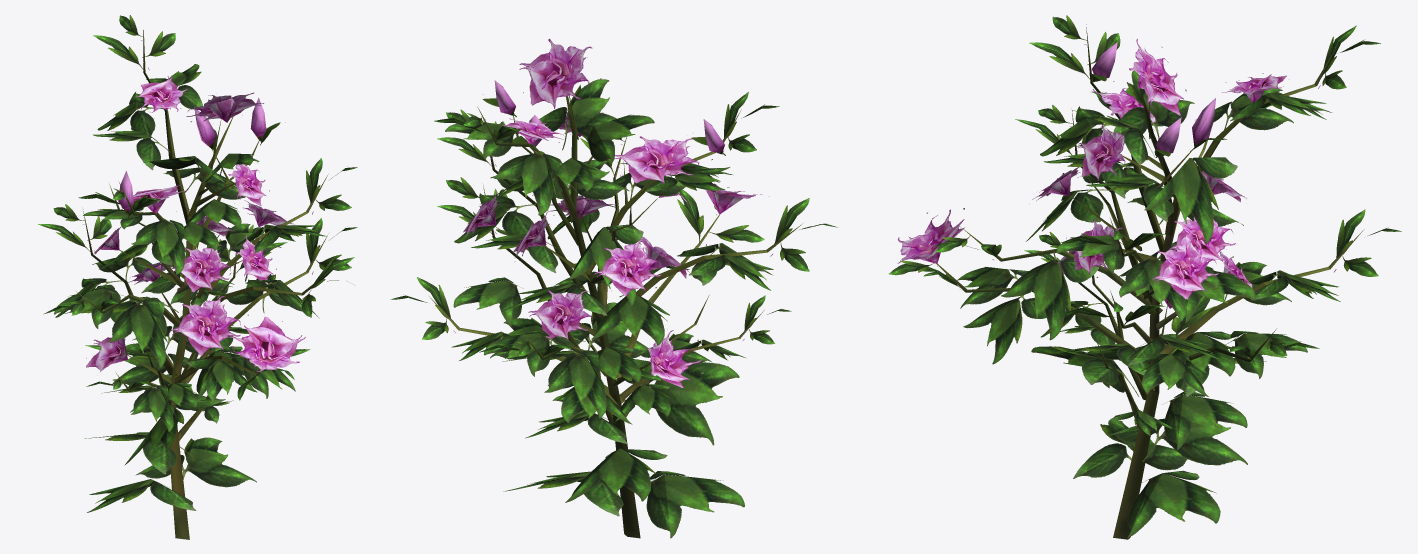
The model's file is YYZmantuoluo001.FBX.
The picture shows the model from 3 angles, left to right: view 1: azimuth 30°, elevation 25°; view 2: azimuth 150°, elevation 25°; view 3: azimuth 270°, elevation 25°; orthographic projection. The views are drawn at different scales.
Visible parts, largest first — view 1: YYZmantuoluo002; view 2: YYZmantuoluo002; view 3: YYZmantuoluo002.
Boxes of the visible parts, <box> form: YYZmantuoluo002: <box>38,15,357,539</box>; YYZmantuoluo002: <box>390,38,838,538</box>; YYZmantuoluo002: <box>889,15,1401,539</box>.
Size of the model in its own units: 1.79 by 2.37 by 2.15.
